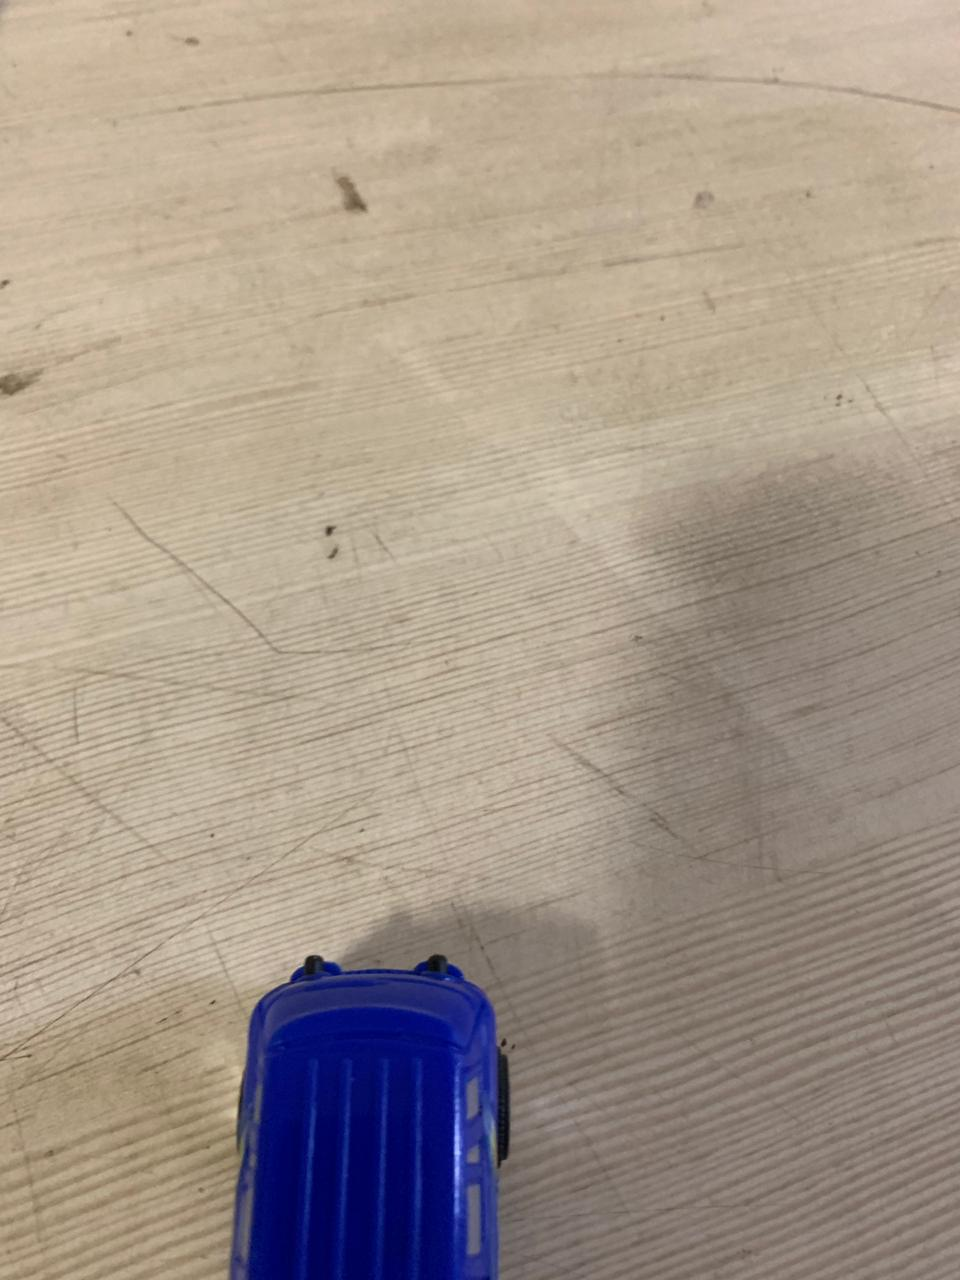car: (216, 945, 523, 1280)
